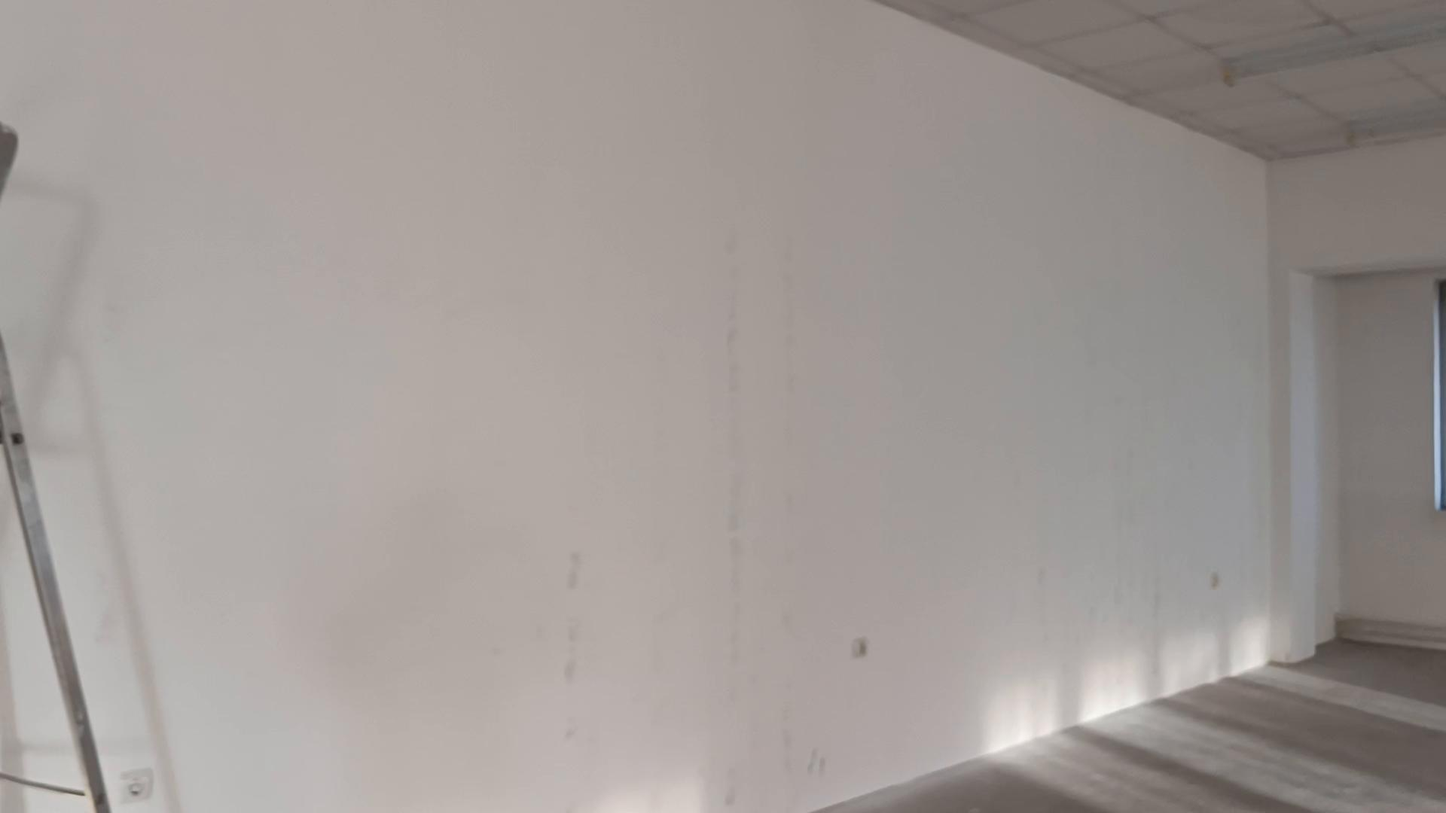ceiling: (878, 0, 1445, 159)
floor: (816, 640, 1445, 812)
wall: (0, 0, 1445, 812)
